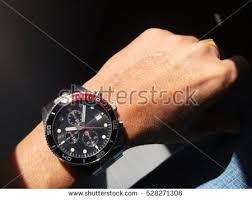clock: (45, 94, 118, 166)
